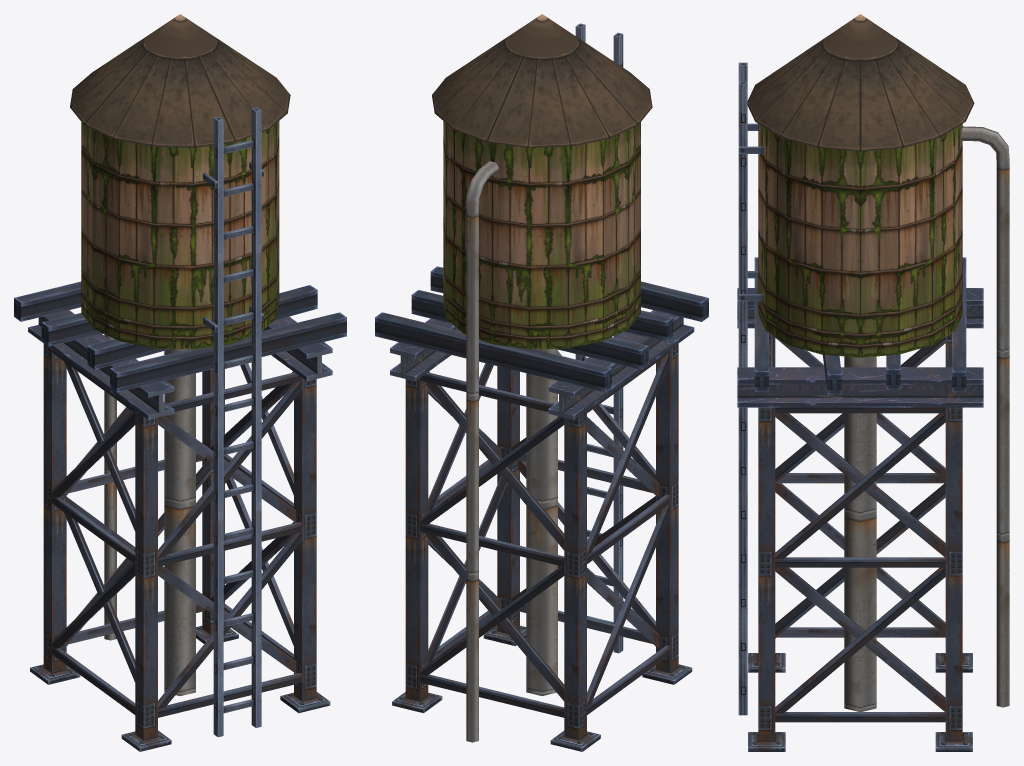
Rendered from waterTank01_A.fbx.
3 renders of one model, left to right at view 1: azimuth 30°, elevation 25°; view 2: azimuth 150°, elevation 25°; view 3: azimuth 270°, elevation 25°, orthographic. The views are drawn at different scales.
Parts seen in each view (by area): view 1: waterTank01_A; view 2: waterTank01_A; view 3: waterTank01_A.
Part boxes in pixels (left/top/right/bottom): waterTank01_A: left=14, top=14, right=346, bottom=751; waterTank01_A: left=375, top=14, right=708, bottom=751; waterTank01_A: left=737, top=14, right=1009, bottom=751.
Size of the model in its own units: 333 by 894 by 320.
